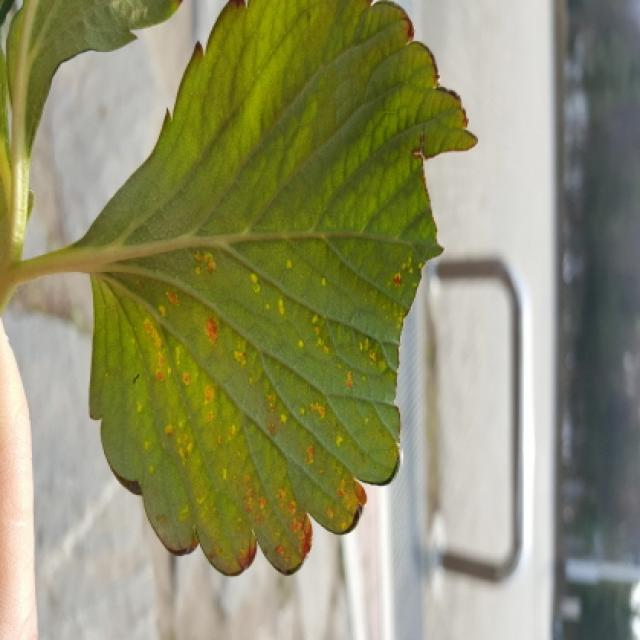Angular Leafspot: (99, 245, 438, 579)
